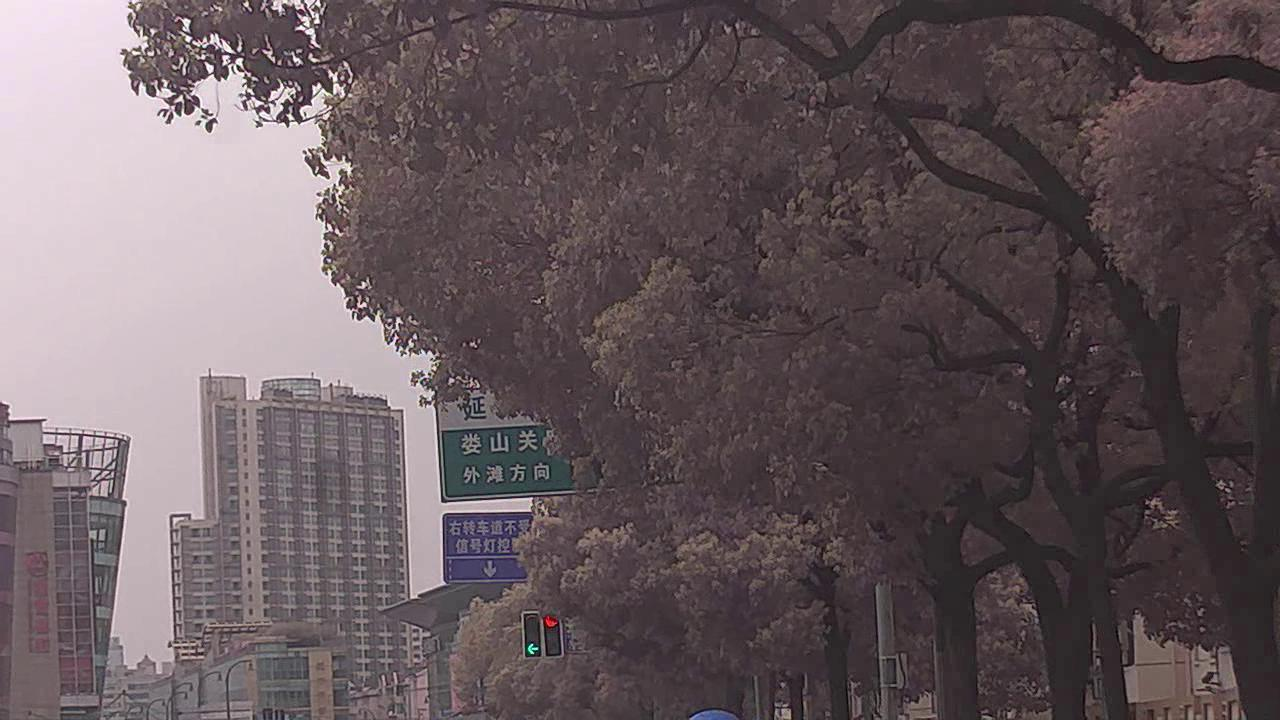traffic_light: (522, 613, 545, 659), (544, 611, 565, 656)
